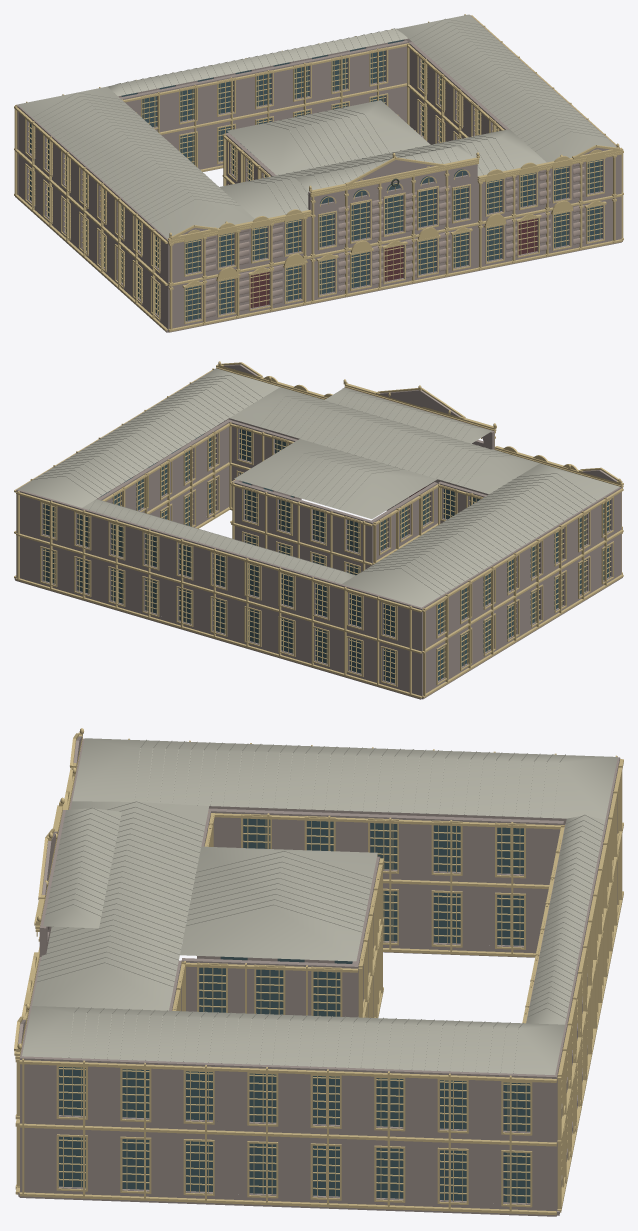
The model's file is edificio-metalico-near.glb.
The picture shows the model from 3 angles, top to bottom: view 1: azimuth 30°, elevation 25°; view 2: azimuth 150°, elevation 25°; view 3: azimuth 270°, elevation 25°; orthographic projection. The views are drawn at different scales.
Visible parts, largest first — view 1: edificio-metalico-0-roof, edificio-metalico-0-trim, edificio-metalico-0-panel, edificio-metalico-0-glass, edificio-metalico-0-relief, edificio-metalico-0-door; view 2: edificio-metalico-0-roof, edificio-metalico-0-panel, edificio-metalico-0-trim, edificio-metalico-0-glass; view 3: edificio-metalico-0-roof, edificio-metalico-0-panel, edificio-metalico-0-trim, edificio-metalico-0-glass.
Boxes of the visible parts, x1,y1,x2,y2 form: edificio-metalico-0-roof: (18,14,616,238); edificio-metalico-0-trim: (14,14,623,331); edificio-metalico-0-panel: (15,15,622,332); edificio-metalico-0-glass: (30,39,602,320); edificio-metalico-0-relief: (205,162,584,317); edificio-metalico-0-door: (250,218,537,307); edificio-metalico-0-roof: (18,368,619,607); edificio-metalico-0-panel: (14,364,622,699); edificio-metalico-0-trim: (14,361,623,698); edificio-metalico-0-glass: (43,429,610,683); edificio-metalico-0-roof: (22,738,617,1074); edificio-metalico-0-panel: (18,736,619,1216); edificio-metalico-0-trim: (14,728,623,1215); edificio-metalico-0-glass: (59,818,530,1203).
Size of the model in its own units: 63.49 by 17.67 by 47.88.
